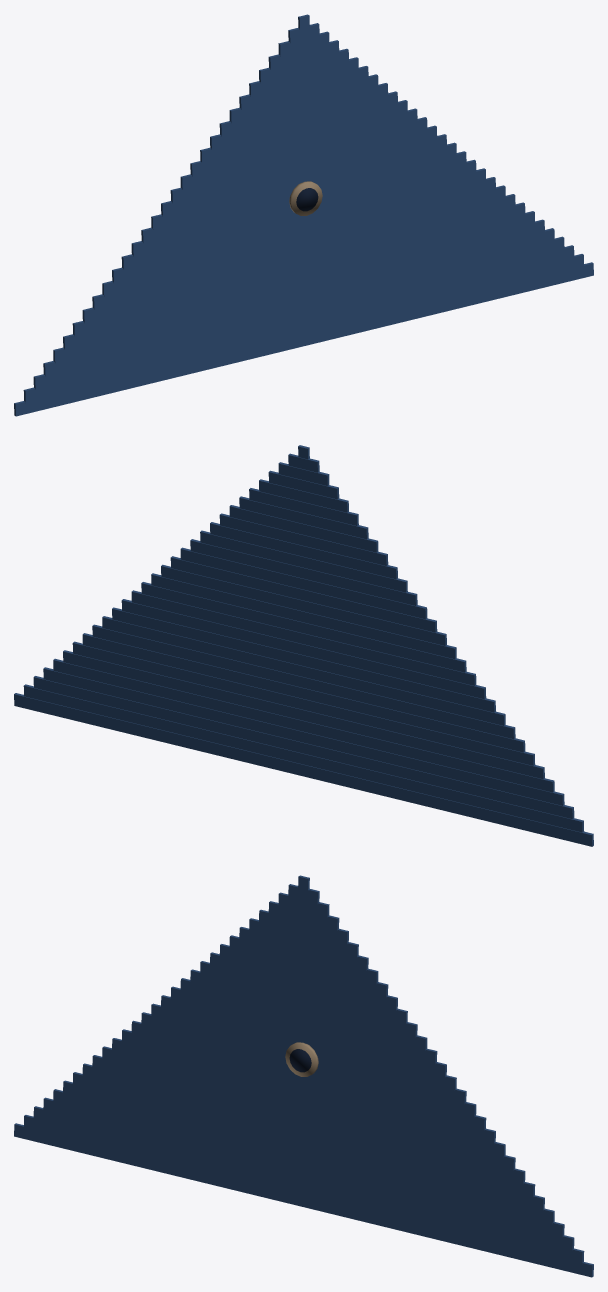
File: kit_clapboard_gable_w6.glb
3 renders of one model, top to bottom at view 1: azimuth 30°, elevation 25°; view 2: azimuth 150°, elevation 25°; view 3: azimuth 330°, elevation 25°, orthographic.
Parts seen in each view (by area): view 1: kit_clapboard_gable_w6; view 2: kit_clapboard_gable_w6; view 3: kit_clapboard_gable_w6.
Boxes of the visible parts, left/top/right/bottom form: kit_clapboard_gable_w6: left=14, top=14, right=593, bottom=416; kit_clapboard_gable_w6: left=14, top=445, right=593, bottom=846; kit_clapboard_gable_w6: left=14, top=875, right=593, bottom=1277.
Bounding box in the file's own units: 5.9 × 3.21 × 0.082.
